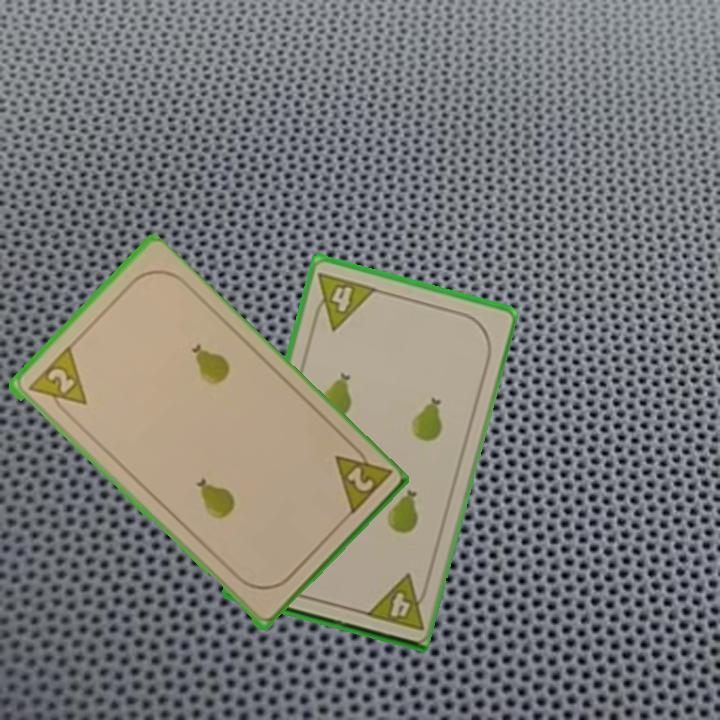2p: (330, 438, 393, 520), (23, 344, 90, 420)
4p: (307, 269, 379, 333), (360, 571, 432, 633)
